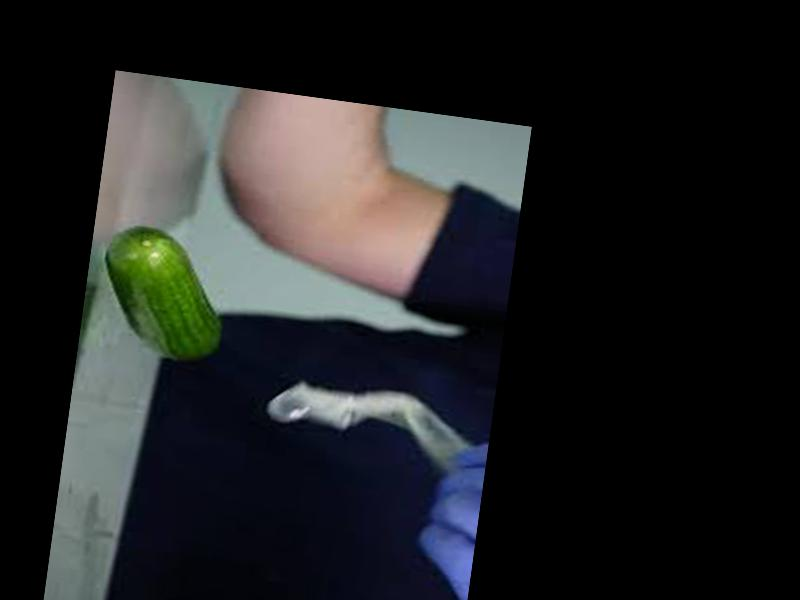Cucumber: (92, 221, 233, 364)
